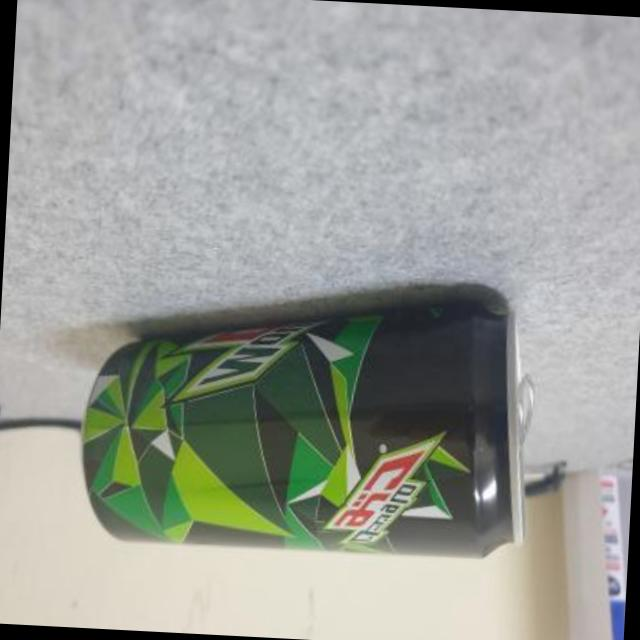metal: (80, 314, 520, 558)
